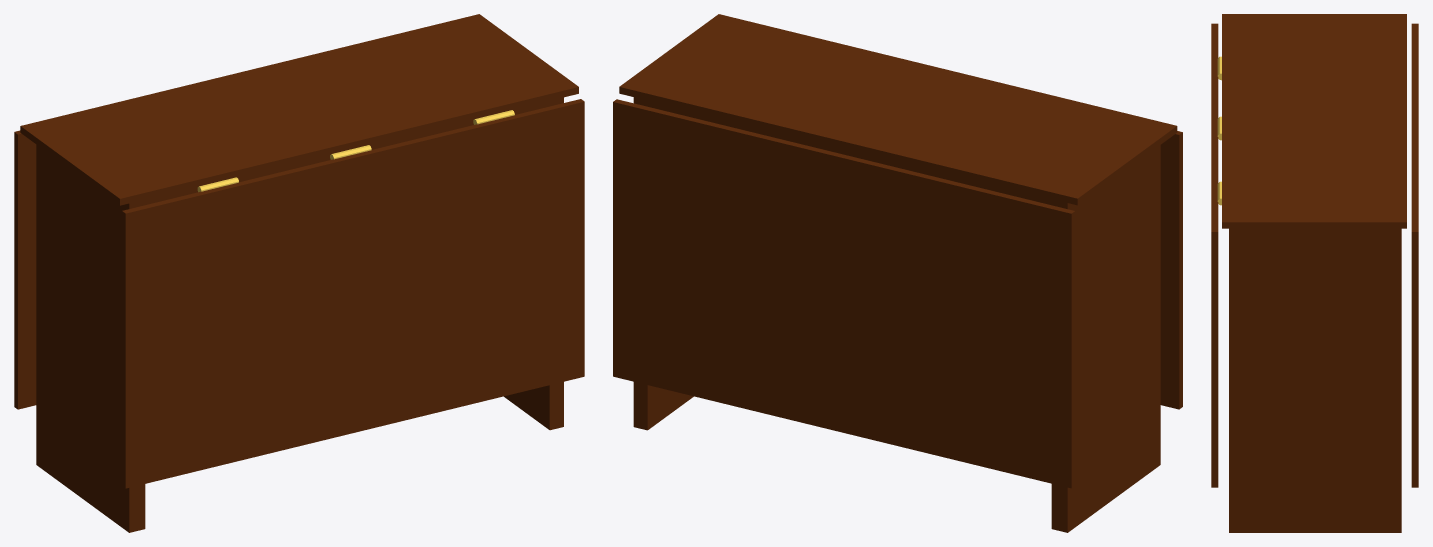
Rendered from Folding table Two.fbx.
The picture shows the model from 3 angles, left to right: view 1: azimuth 30°, elevation 25°; view 2: azimuth 150°, elevation 25°; view 3: azimuth 270°, elevation 25°; orthographic projection. The views are drawn at different scales.
Visible parts, largest first — view 1: Stol_raskladn; view 2: Stol_raskladn; view 3: Stol_raskladn.
Boxes of the visible parts, bbox=[...] form: Stol_raskladn: bbox=[14, 14, 584, 532]; Stol_raskladn: bbox=[613, 14, 1182, 532]; Stol_raskladn: bbox=[1211, 14, 1418, 532].
Bounding box in the file's own units: 366 × 259 × 154.
